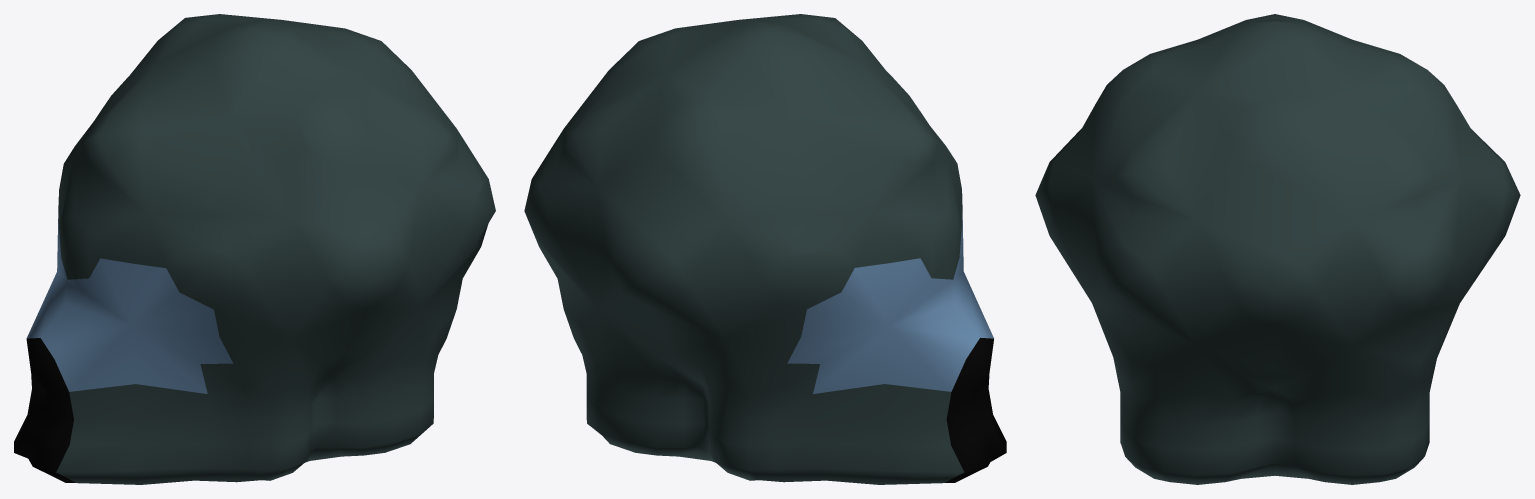
The model's file is MechHelmetv000-d.fbx.
3 renders of one model, left to right at view 1: azimuth 30°, elevation 25°; view 2: azimuth 150°, elevation 25°; view 3: azimuth 270°, elevation 25°, orthographic. The views are drawn at different scales.
Visible parts, largest first — view 1: pCube1; view 2: pCube1; view 3: pCube1.
Boxes of the visible parts, box(x1,y1,x2,y2) form: pCube1: box(14, 14, 495, 484); pCube1: box(524, 14, 1006, 484); pCube1: box(1035, 14, 1520, 484).
Size of the model in its own units: 8.34 by 7.32 by 7.84.
